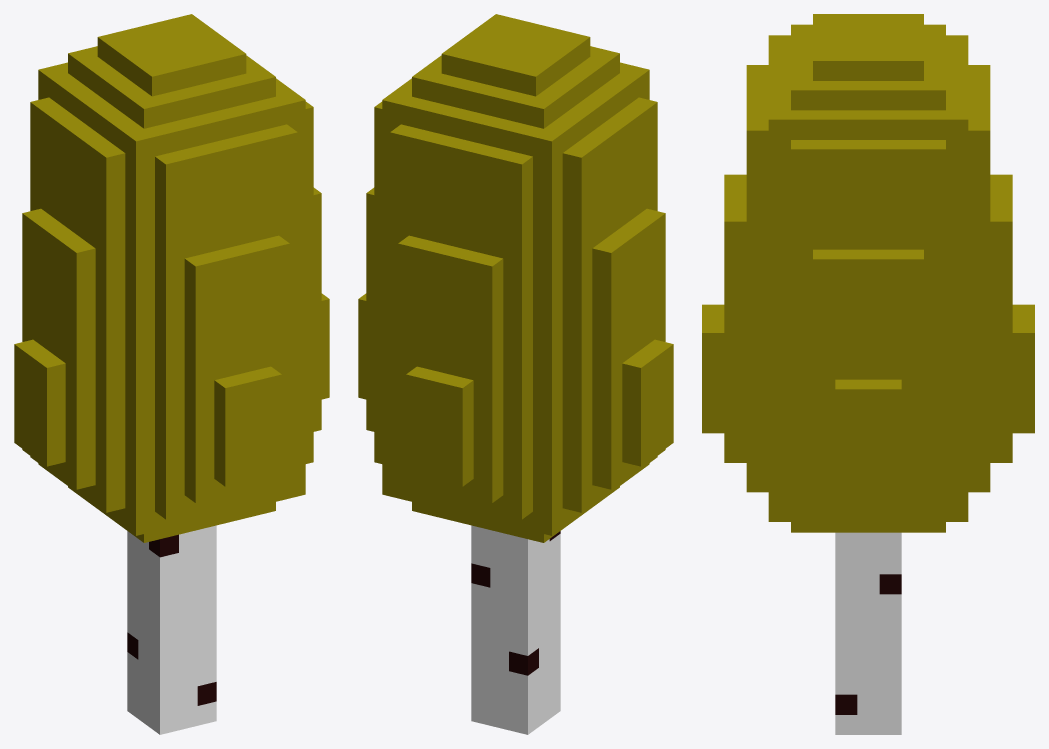
Rendered from Birch_Tree (Stage 6).obj.
3 renders of one model, left to right at view 1: azimuth 30°, elevation 25°; view 2: azimuth 150°, elevation 25°; view 3: azimuth 270°, elevation 25°, orthographic.
Size of the model in its own units: 1.5 by 3.4 by 1.5.
Materials: 1 (1 with a texture image).
